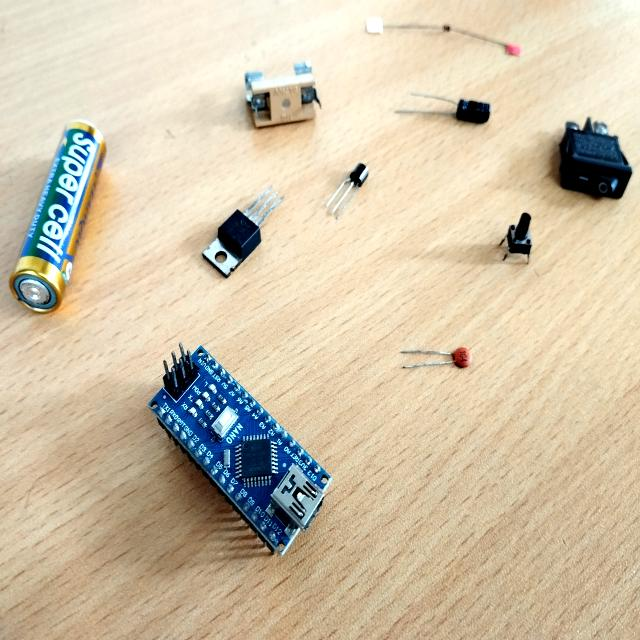1-5-Volt-Battery: (0, 101, 117, 322)
Arduino-Nano: (127, 320, 340, 576)
BJT-Transistor: (318, 151, 378, 230)
Capacitor-10mf: (382, 76, 494, 144)
Fuse-Base: (228, 41, 340, 136)
Low-Voltage-Ceramic-Capacitor: (378, 328, 483, 390)
MOSFET: (194, 172, 290, 283)
Rocker-Switch: (540, 102, 636, 218)
Tact-Switch: (489, 203, 545, 277)
